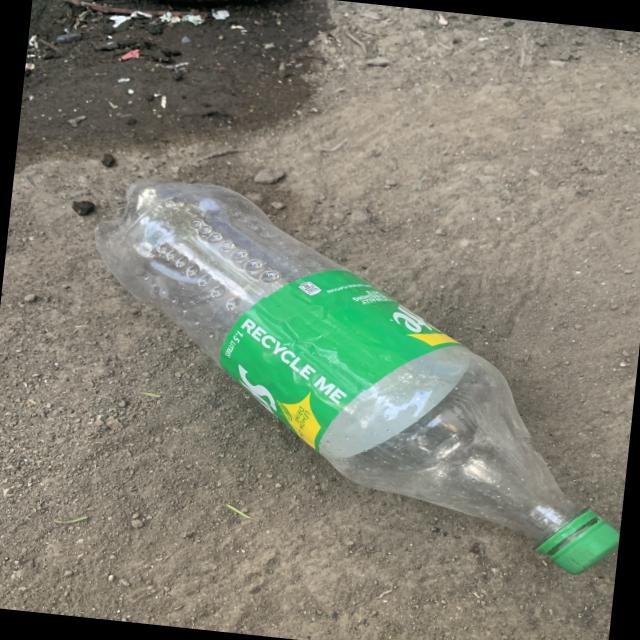Bottle: (95, 180, 619, 573)
